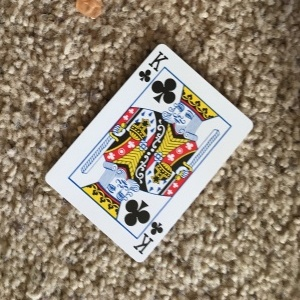card: (45, 41, 254, 259)
